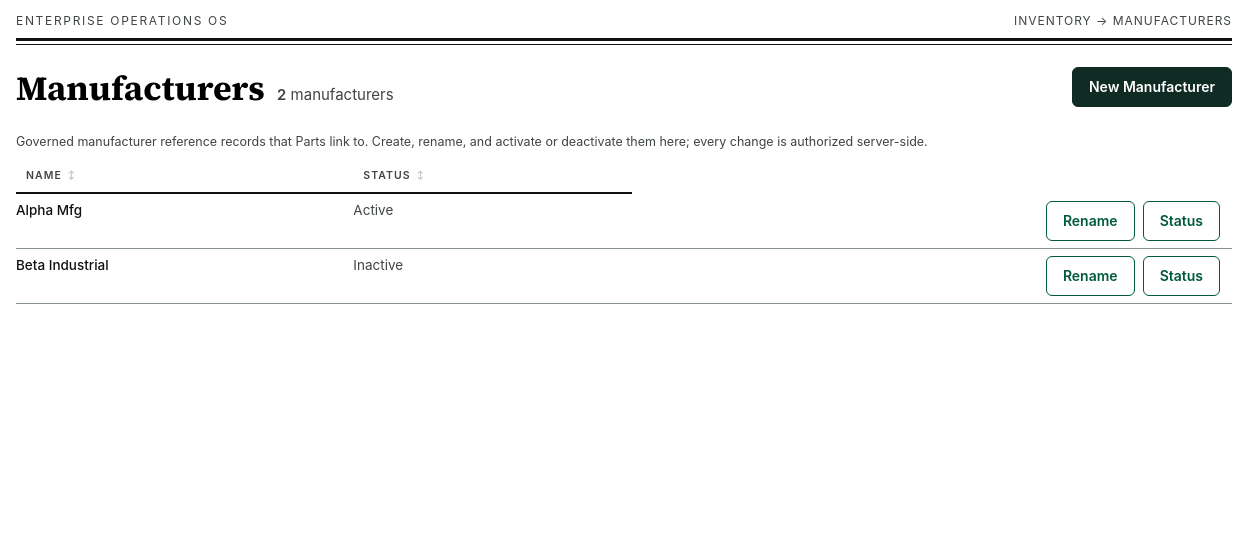
Test case: Manufacturers — metadata list runtime migration (S-INV-MANUFACTURERS) › F5 CREATE: New Manufacturer sends the trimmed id and name, then reloads the list
Check: the text "Alpha Mfg" is shown, box x1=16 y1=194 x2=353 y2=249
Click the button "New Manufacturer".
click(1152, 87)  # box x1=1072 y1=67 x2=1232 y2=107
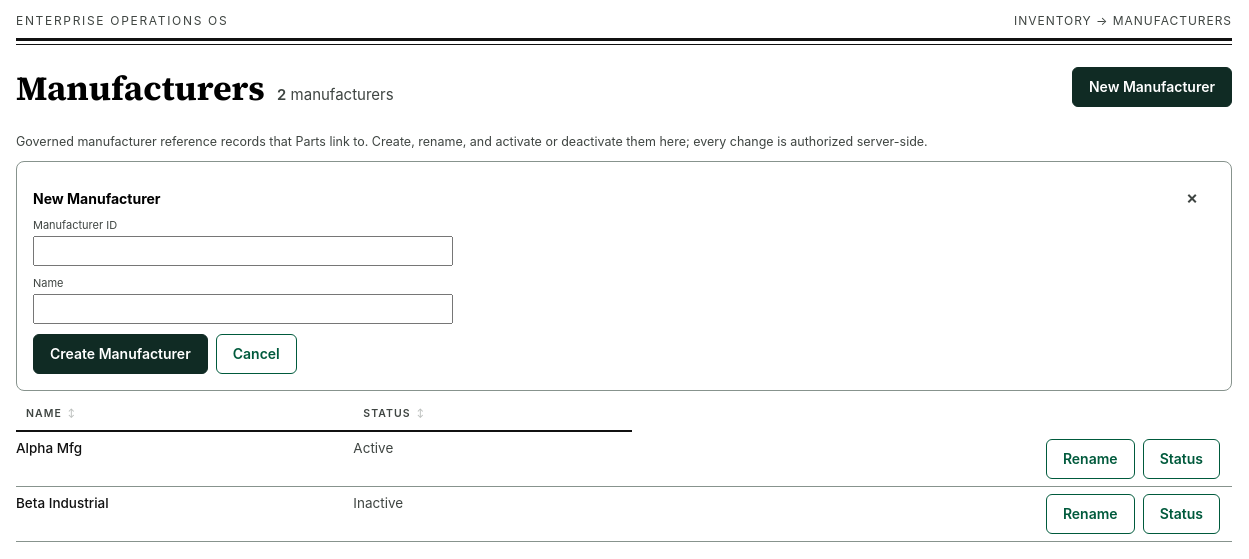
Type " m-gamma " into the field labelled "Manufacturer ID".
click(243, 251); type(" m-gamma ")  # box x1=33 y1=236 x2=453 y2=266
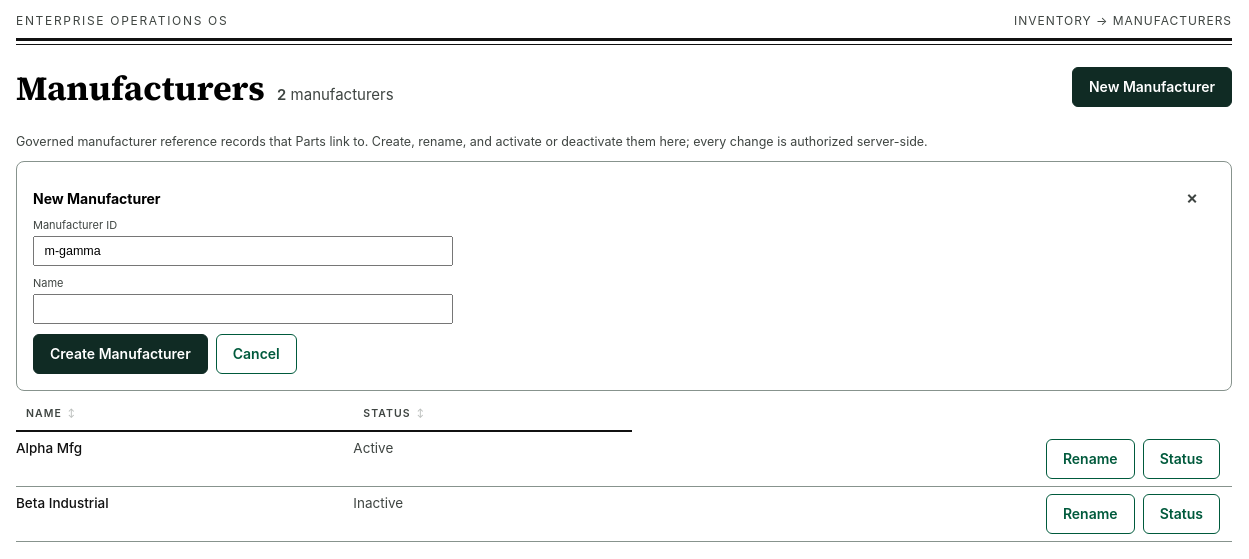
Type " Gamma Co " into the field labelled "Name".
click(243, 309); type(" Gamma Co ")  # box x1=33 y1=294 x2=453 y2=324
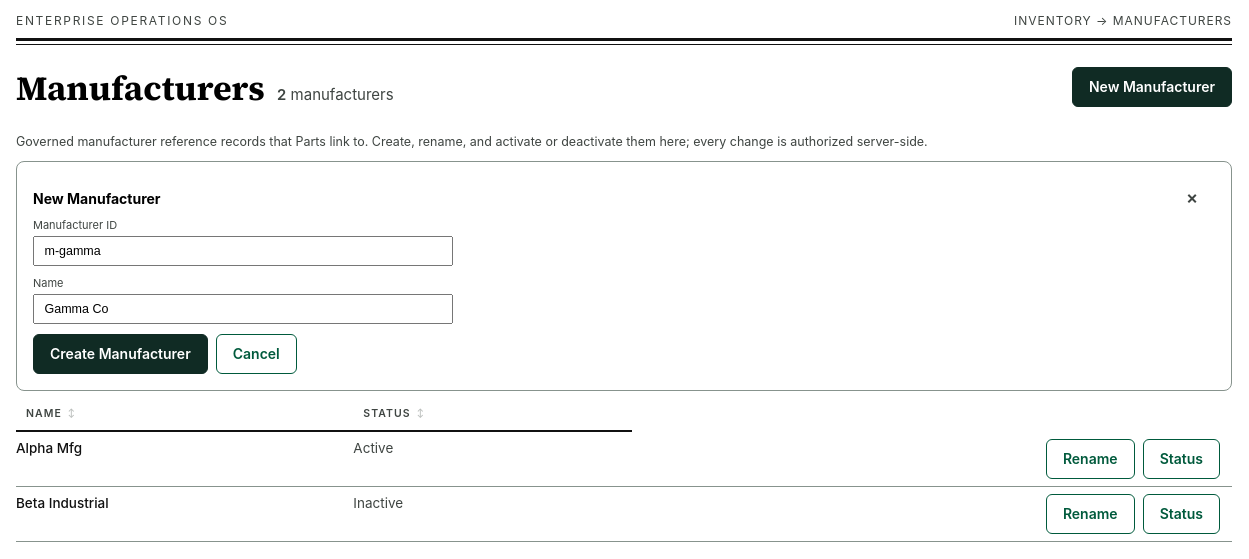
Click the button "Create Manufacturer".
click(120, 354)  # box x1=33 y1=334 x2=208 y2=374
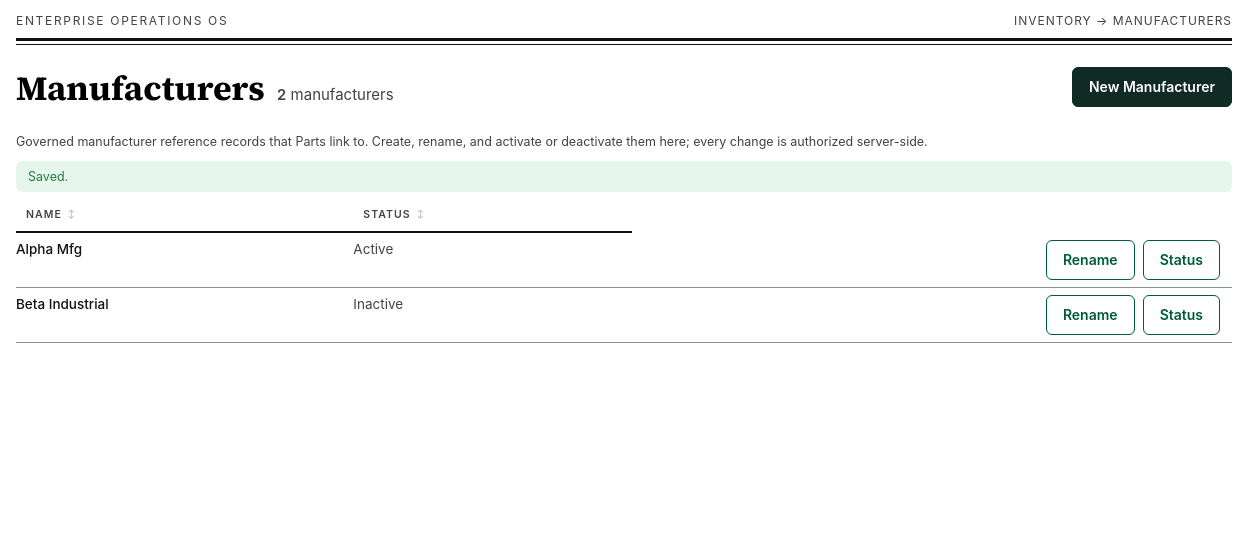
Check: the text "Saved." is shown, box x1=16 y1=161 x2=1232 y2=192
